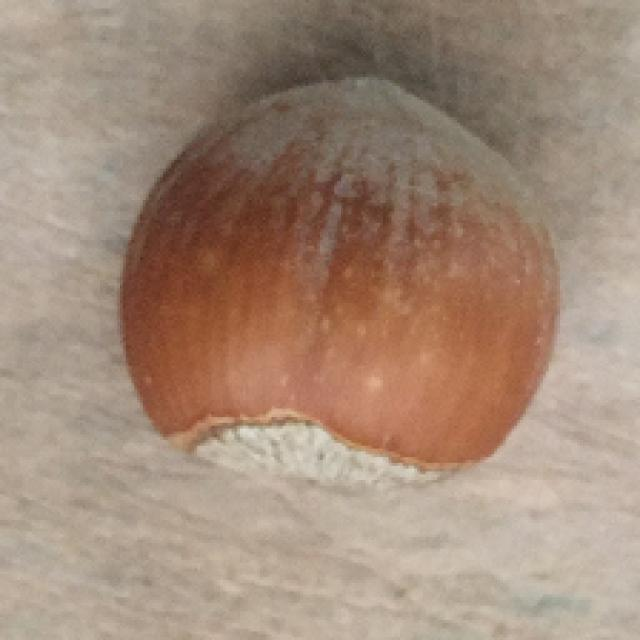qualityHazelnut: (116, 64, 565, 501)
